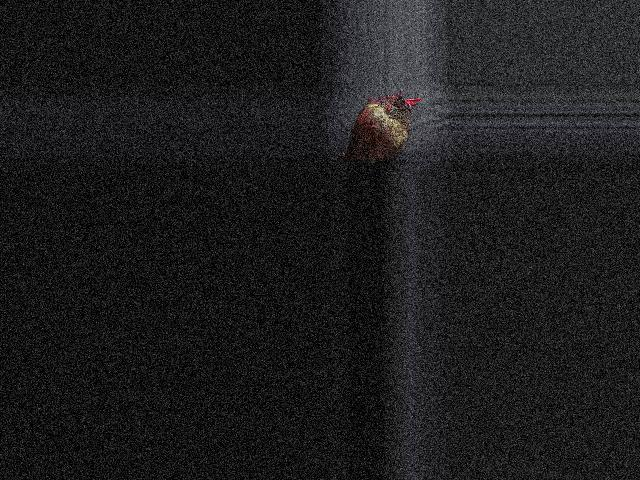beet: (336, 90, 421, 163)
